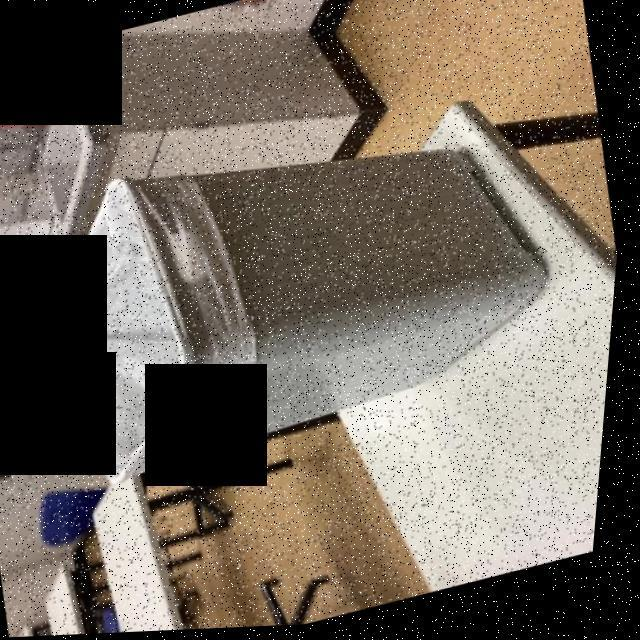bin: (0, 57, 630, 539)
